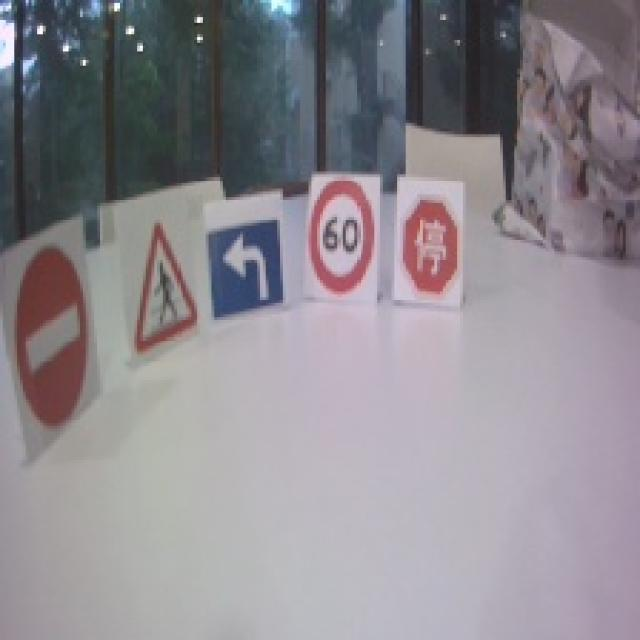DoNotEnterSign: (12, 246, 90, 437)
